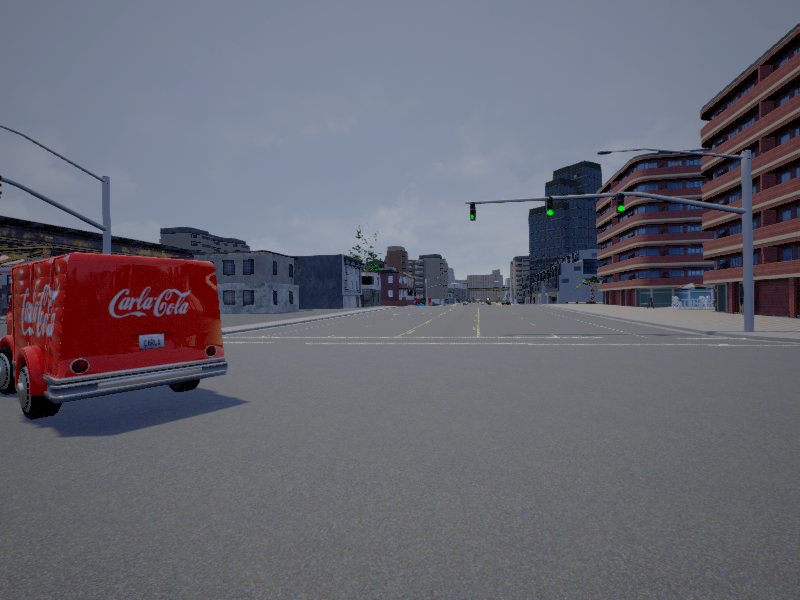Benign: (1, 258, 223, 420)
